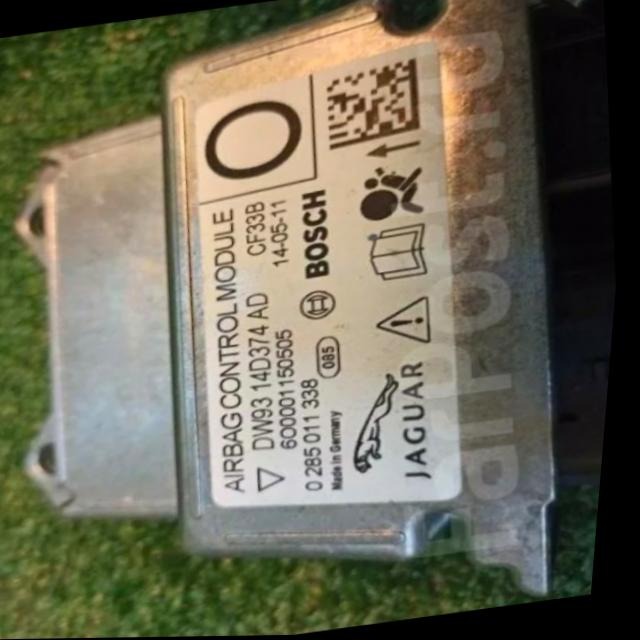datamatrix: (319, 57, 430, 152)
